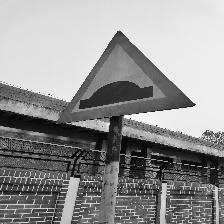Speed-breaker: (57, 31, 196, 122)
